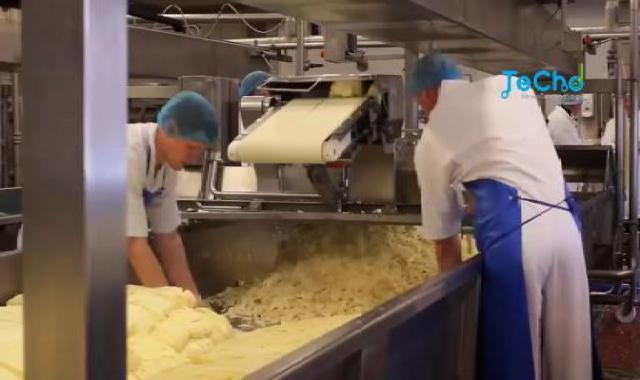hairnet: (150, 91, 225, 147)
